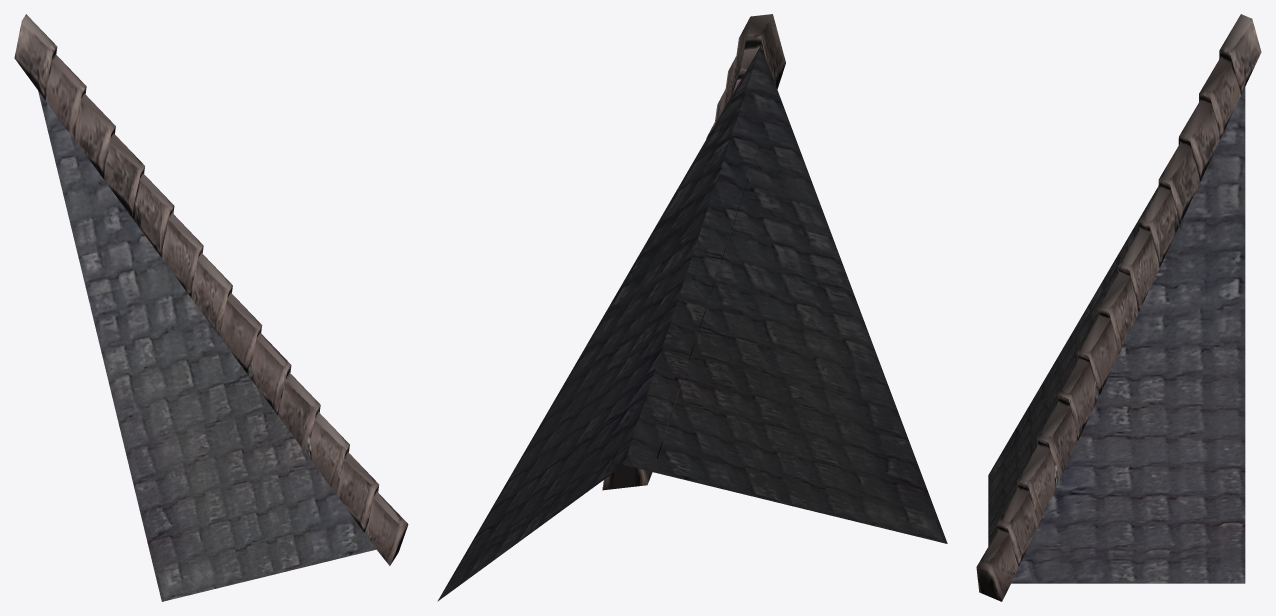
The model's file is RoofCorner1x3-1A.fbx.
3 renders of one model, left to right at view 1: azimuth 30°, elevation 25°; view 2: azimuth 150°, elevation 25°; view 3: azimuth 270°, elevation 25°, orthographic. The views are drawn at different scales.
Parts seen in each view (by area): view 1: RoofCorner1x3-1A; view 2: RoofCorner1x3-1A; view 3: RoofCorner1x3-1A.
Part boxes in pixels (box(x1,y1,x2,y2)): RoofCorner1x3-1A: box(14, 14, 408, 601); RoofCorner1x3-1A: box(437, 14, 947, 601); RoofCorner1x3-1A: box(976, 14, 1261, 601).
Size of the model in its own units: 178 by 325 by 178.
